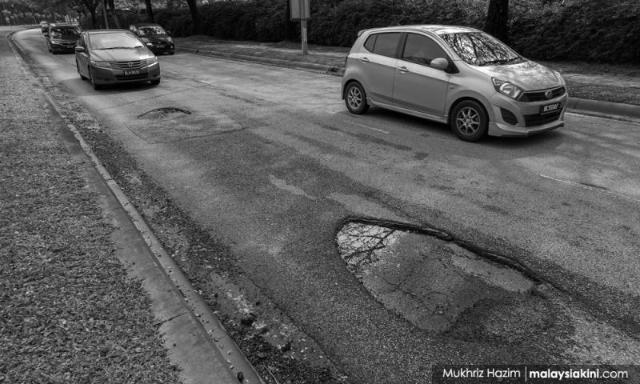Pothole: (334, 214, 542, 338), (136, 106, 192, 124)
